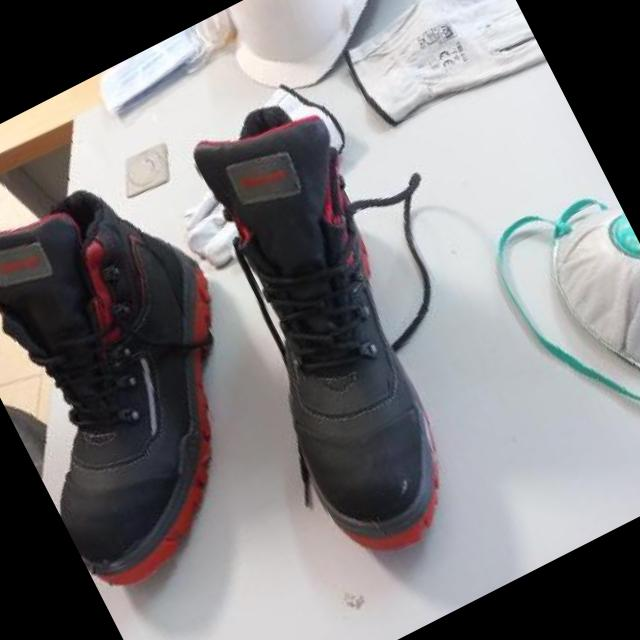hard_hat: (213, 0, 445, 101)
work_boots: (156, 84, 536, 570), (0, 149, 323, 603)
